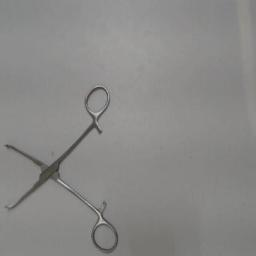Allis Tissue Forceps: (2, 79, 122, 255)
